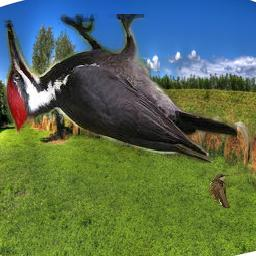Cuckoo: (210, 174, 231, 209)
Woodpecker: (5, 15, 238, 164)
